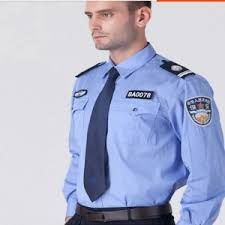uniform: (71, 58, 218, 206)
